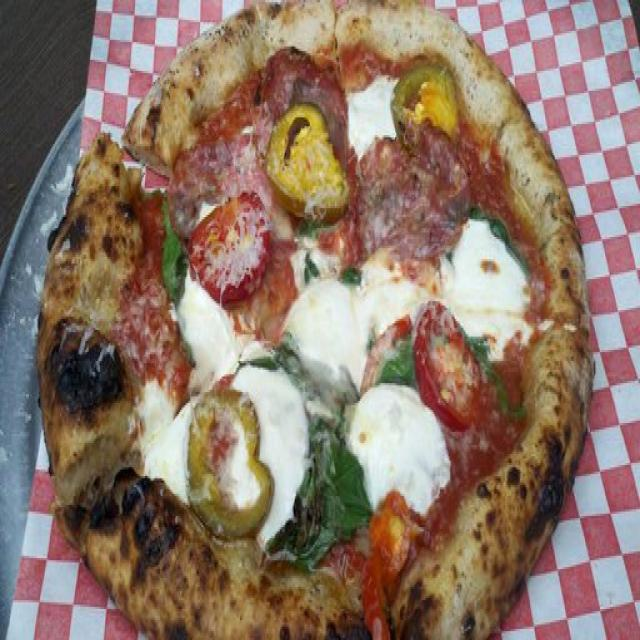Basil: (273, 431, 369, 553), (158, 189, 184, 290), (381, 334, 416, 388)
Cheese: (344, 386, 445, 519), (241, 364, 304, 528), (446, 220, 528, 340), (281, 272, 366, 376), (172, 278, 239, 383), (137, 394, 194, 496), (363, 244, 417, 339), (345, 75, 393, 159)
Pizza: (36, 0, 596, 640)
Tomato: (359, 498, 418, 640), (414, 298, 480, 416), (190, 189, 267, 290), (121, 275, 185, 383)
